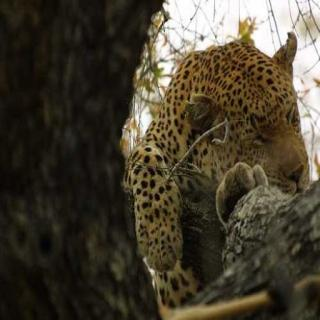Leopard: (115, 43, 320, 250)
